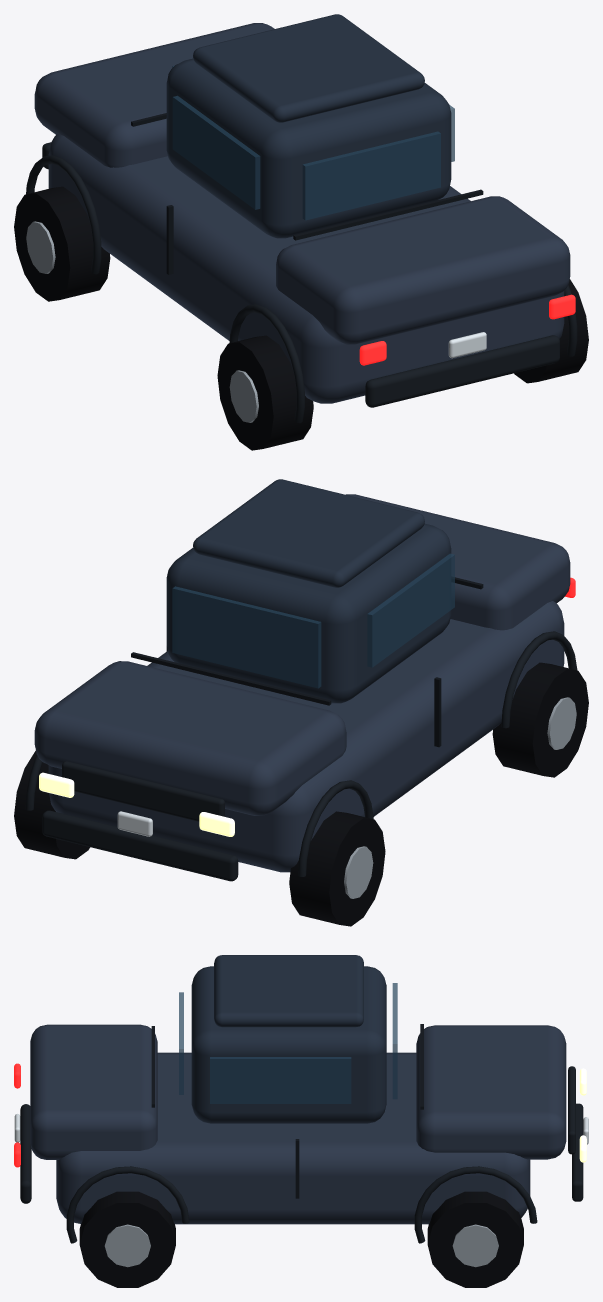
File: passenger_car_far.glb
The picture shows the model from 3 angles, top to bottom: view 1: azimuth 30°, elevation 25°; view 2: azimuth 150°, elevation 25°; view 3: azimuth 270°, elevation 25°; orthographic projection. The views are drawn at different scales.
Visible parts, largest first — view 1: passenger_car_far_rounded_sedan_lower_body_panel, passenger_car_far_rounded_passenger_cabin_body_panel, passenger_car_far_rear_trunk_deck_body_panel_with_soft_bevel, passenger_car_far_subtle_roof_panel_bevel, passenger_car_far_front_hood_body_panel_with_soft_bevel, passenger_car_far_rear_window_glass, passenger_car_far_rear_left_wheel_tire, passenger_car_far_front_left_wheel_tire, passenger_car_far_rear_bumper_dark_trim, passenger_car_far_left_side_window_glass_band, passenger_car_far_rear_right_wheel_tire, passenger_car_far_front_left_rounded_wheel_arch_panel_trim (+6 smaller); view 2: passenger_car_far_rounded_sedan_lower_body_panel, passenger_car_far_rounded_passenger_cabin_body_panel, passenger_car_far_front_hood_body_panel_with_soft_bevel, passenger_car_far_subtle_roof_panel_bevel, passenger_car_far_rear_trunk_deck_body_panel_with_soft_bevel, passenger_car_far_front_windshield_glass, passenger_car_far_front_left_wheel_tire, passenger_car_far_rear_left_wheel_tire, passenger_car_far_front_lower_air_intake_body_panel_break, passenger_car_far_left_side_window_glass_band, passenger_car_far_front_grille_dark_trim, passenger_car_far_front_right_wheel_tire (+8 smaller); view 3: passenger_car_far_rounded_sedan_lower_body_panel, passenger_car_far_rounded_passenger_cabin_body_panel, passenger_car_far_front_hood_body_panel_with_soft_bevel, passenger_car_far_rear_trunk_deck_body_panel_with_soft_bevel, passenger_car_far_subtle_roof_panel_bevel, passenger_car_far_right_side_window_glass_band, passenger_car_far_front_right_wheel_tire, passenger_car_far_rear_right_wheel_tire, passenger_car_far_rear_right_wheel_outer_hub, passenger_car_far_front_right_wheel_outer_hub, passenger_car_far_front_right_rounded_wheel_arch_panel_trim, passenger_car_far_rear_right_rounded_wheel_arch_panel_trim (+5 smaller).
Part boxes in pixels (bbox=[...]): passenger_car_far_rounded_sedan_lower_body_panel: bbox=[48, 134, 564, 403]; passenger_car_far_rounded_passenger_cabin_body_panel: bbox=[166, 58, 451, 238]; passenger_car_far_rear_trunk_deck_body_panel_with_soft_bevel: bbox=[276, 196, 570, 344]; passenger_car_far_subtle_roof_panel_bevel: bbox=[193, 14, 424, 122]; passenger_car_far_front_hood_body_panel_with_soft_bevel: bbox=[34, 23, 274, 167]; passenger_car_far_rear_window_glass: bbox=[302, 131, 440, 220]; passenger_car_far_rear_left_wheel_tire: bbox=[217, 335, 313, 450]; passenger_car_far_front_left_wheel_tire: bbox=[14, 186, 110, 301]; passenger_car_far_rear_bumper_dark_trim: bbox=[365, 335, 559, 407]; passenger_car_far_left_side_window_glass_band: bbox=[172, 95, 260, 209]; passenger_car_far_rear_right_wheel_tire: bbox=[514, 279, 588, 383]; passenger_car_far_front_left_rounded_wheel_arch_panel_trim: bbox=[26, 155, 101, 274]; passenger_car_far_rounded_sedan_lower_body_panel: bbox=[48, 601, 564, 872]; passenger_car_far_rounded_passenger_cabin_body_panel: bbox=[166, 523, 451, 703]; passenger_car_far_front_hood_body_panel_with_soft_bevel: bbox=[34, 661, 346, 815]; passenger_car_far_subtle_roof_panel_bevel: bbox=[193, 479, 424, 587]; passenger_car_far_rear_trunk_deck_body_panel_with_soft_bevel: bbox=[346, 494, 570, 630]; passenger_car_far_front_windshield_glass: bbox=[172, 586, 321, 688]; passenger_car_far_front_left_wheel_tire: bbox=[289, 811, 385, 926]; passenger_car_far_rear_left_wheel_tire: bbox=[492, 662, 588, 777]; passenger_car_far_front_lower_air_intake_body_panel_break: bbox=[42, 810, 238, 881]; passenger_car_far_left_side_window_glass_band: bbox=[367, 553, 454, 667]; passenger_car_far_front_grille_dark_trim: bbox=[62, 761, 224, 821]; passenger_car_far_front_right_wheel_tire: bbox=[14, 750, 89, 859]; passenger_car_far_rounded_sedan_lower_body_panel: bbox=[56, 1052, 530, 1224]; passenger_car_far_rounded_passenger_cabin_body_panel: bbox=[191, 966, 386, 1123]; passenger_car_far_front_hood_body_panel_with_soft_bevel: bbox=[416, 1025, 566, 1159]; passenger_car_far_rear_trunk_deck_body_panel_with_soft_bevel: bbox=[30, 1024, 157, 1159]; passenger_car_far_subtle_roof_panel_bevel: bbox=[214, 955, 363, 1027]; passenger_car_far_right_side_window_glass_band: bbox=[210, 1057, 351, 1103]; passenger_car_far_front_right_wheel_tire: bbox=[427, 1191, 523, 1287]; passenger_car_far_rear_right_wheel_tire: bbox=[79, 1191, 175, 1287]; passenger_car_far_rear_right_wheel_outer_hub: bbox=[104, 1224, 150, 1267]; passenger_car_far_front_right_wheel_outer_hub: bbox=[452, 1224, 498, 1267]; passenger_car_far_front_right_rounded_wheel_arch_panel_trim: bbox=[414, 1166, 537, 1243]; passenger_car_far_rear_right_rounded_wheel_arch_panel_trim: bbox=[66, 1166, 189, 1243].
Bounding box in the file's own units: 2.23 × 1.86 × 4.06.
